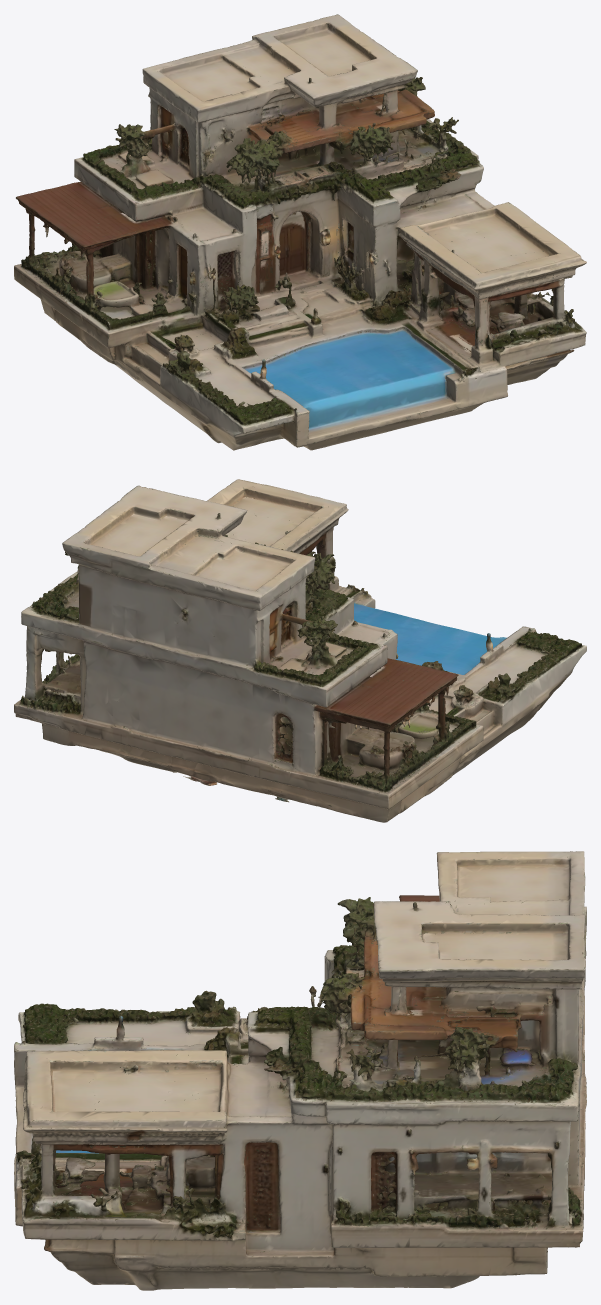
Rendered from villa.glb.
3 views of the same model, one above another, from view 1: azimuth 30°, elevation 25°; view 2: azimuth 150°, elevation 25°; view 3: azimuth 270°, elevation 25° (orthographic). The views are drawn at different scales.
Size of the model in its own units: 2 by 1.27 by 2.
Materials: 1 (1 with a texture image).
